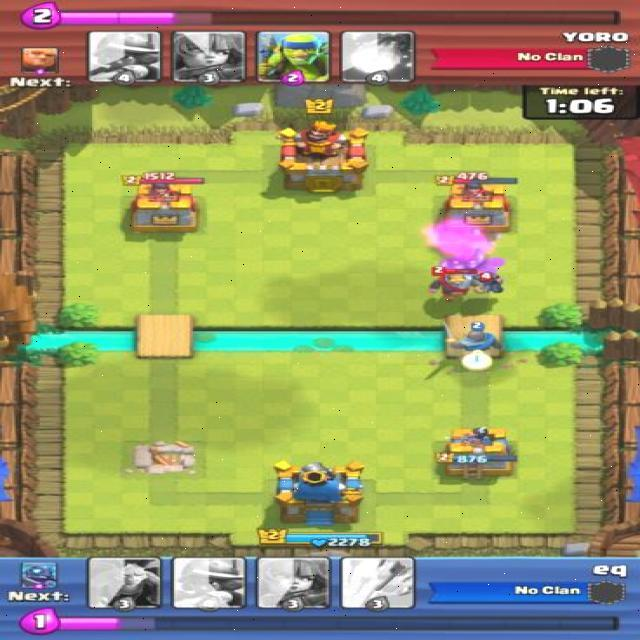EKingTower: (275, 127, 372, 195)
EKnight: (430, 266, 469, 304)
EMiniPeka: (471, 271, 511, 299)
EnemyPrincessTower: (440, 176, 512, 232), (125, 177, 195, 233)
OKnight: (445, 321, 507, 358)
OwnKingTower: (268, 459, 361, 526)
OwnPrincessTower: (440, 423, 513, 479)
TowerDown: (120, 431, 205, 480)
